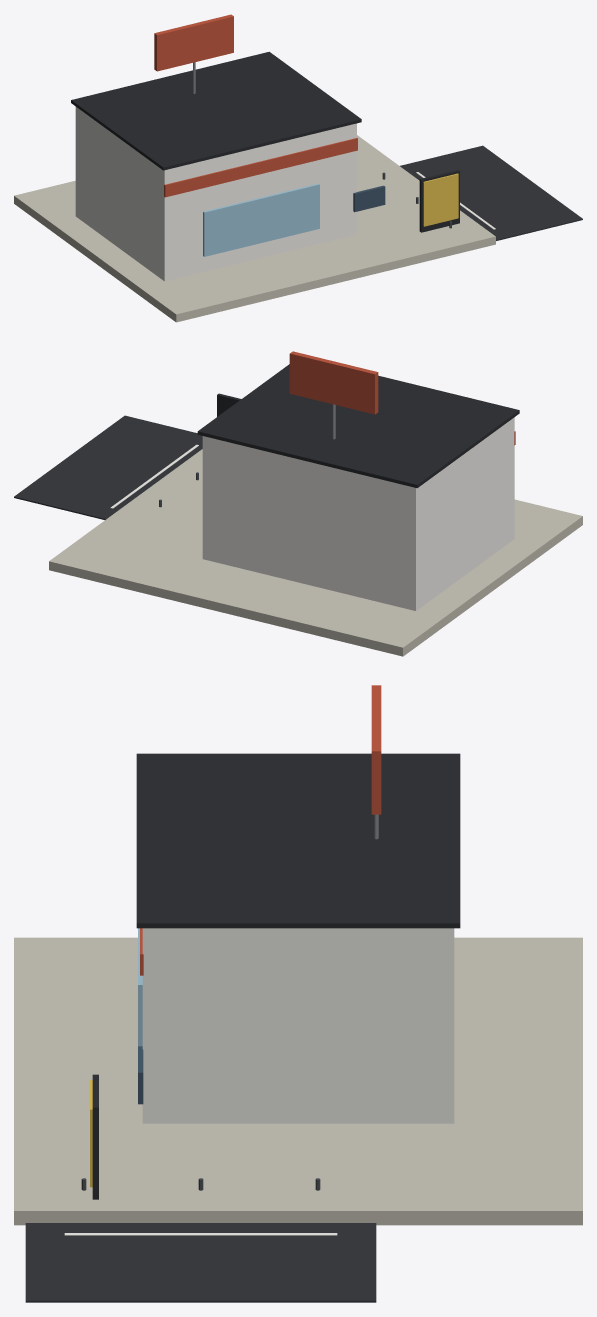
The model's file is building.fast-food.glb.
3 views of the same model, one above another, from view 1: azimuth 30°, elevation 25°; view 2: azimuth 150°, elevation 25°; view 3: azimuth 270°, elevation 25° (orthographic). The views are drawn at different scales.
Visible parts, largest first — view 1: building.fast-food; view 2: building.fast-food; view 3: building.fast-food.
Part boxes in pixels (<box>): building.fast-food: <box>14,14,582,322</box>; building.fast-food: <box>14,351,582,656</box>; building.fast-food: <box>14,685,582,1302</box>.
Bounding box in the file's own units: 21.3 × 9.55 × 14.6.
